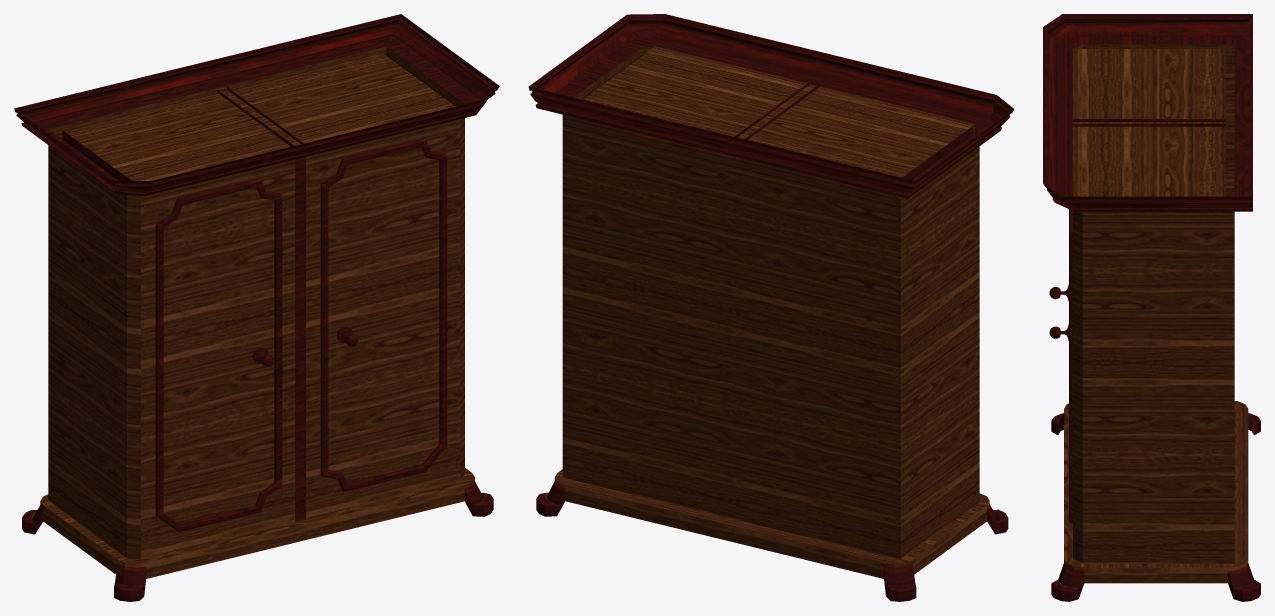
File: MableBox.fbx
3 renders of one model, left to right at view 1: azimuth 30°, elevation 25°; view 2: azimuth 150°, elevation 25°; view 3: azimuth 270°, elevation 25°, orthographic. The views are drawn at different scales.
Visible parts, largest first — view 1: Box, Door.2, Door; view 2: Box, Door, Door.2; view 3: Box, Door.2, Door.
Part boxes in pixels (x1,y1,x2,y2): Box: [14, 14, 499, 601]; Door.2: [305, 106, 460, 519]; Door: [141, 147, 295, 559]; Box: [528, 14, 1014, 601]; Door: [816, 86, 974, 135]; Door.2: [651, 46, 806, 86]; Box: [1043, 14, 1260, 601]; Door.2: [1049, 126, 1081, 523]; Door: [1049, 48, 1081, 301].
Size of the model in its own units: 851 by 885 by 429.
Materials: 1 (1 with a texture image).
